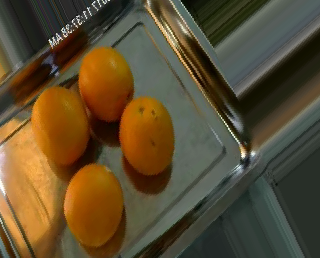Orange: (61, 163, 124, 247), (30, 84, 90, 164), (118, 96, 175, 176), (79, 45, 135, 123)
